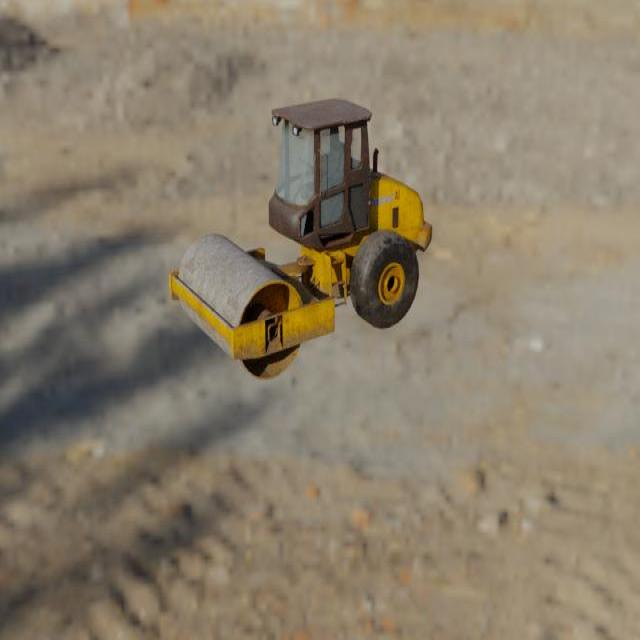Roller: (168, 97, 432, 380)
